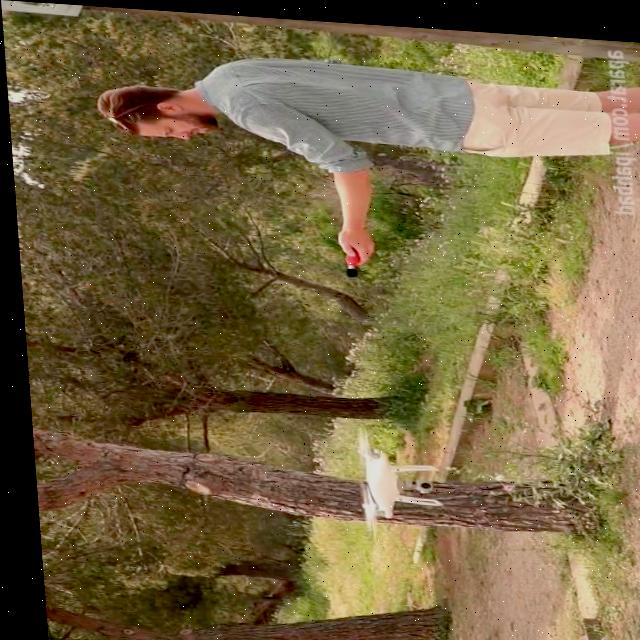drone: (349, 421, 437, 540)
